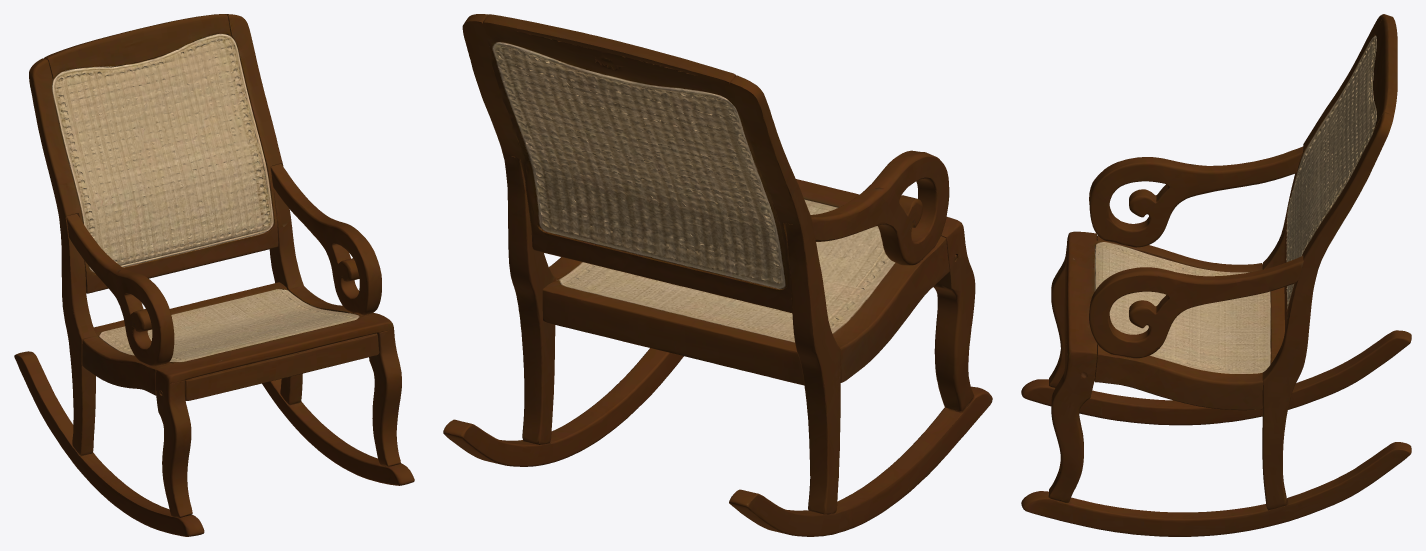
The model's file is rocker.glb.
3 views of the same model, side by side, from view 1: azimuth 30°, elevation 25°; view 2: azimuth 150°, elevation 25°; view 3: azimuth 270°, elevation 25° (orthographic). The views are drawn at different scales.
Parts seen in each view (by area): view 1: model; view 2: model; view 3: model.
Part boxes in pixels (bbox=[...]): model: bbox=[14, 14, 414, 536]; model: bbox=[443, 14, 992, 536]; model: bbox=[1021, 14, 1411, 536].
Bounding box in the file's own units: 1.18 × 1.9 × 1.6.
1 material, 1 textured.
